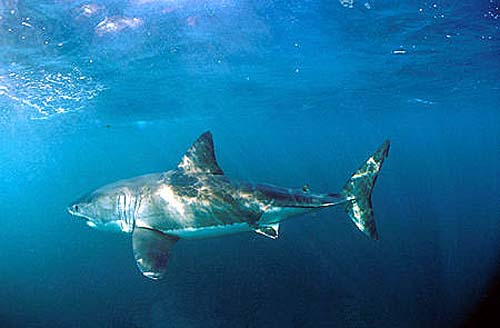Carcharodon_carcharias: (58, 123, 407, 274)
